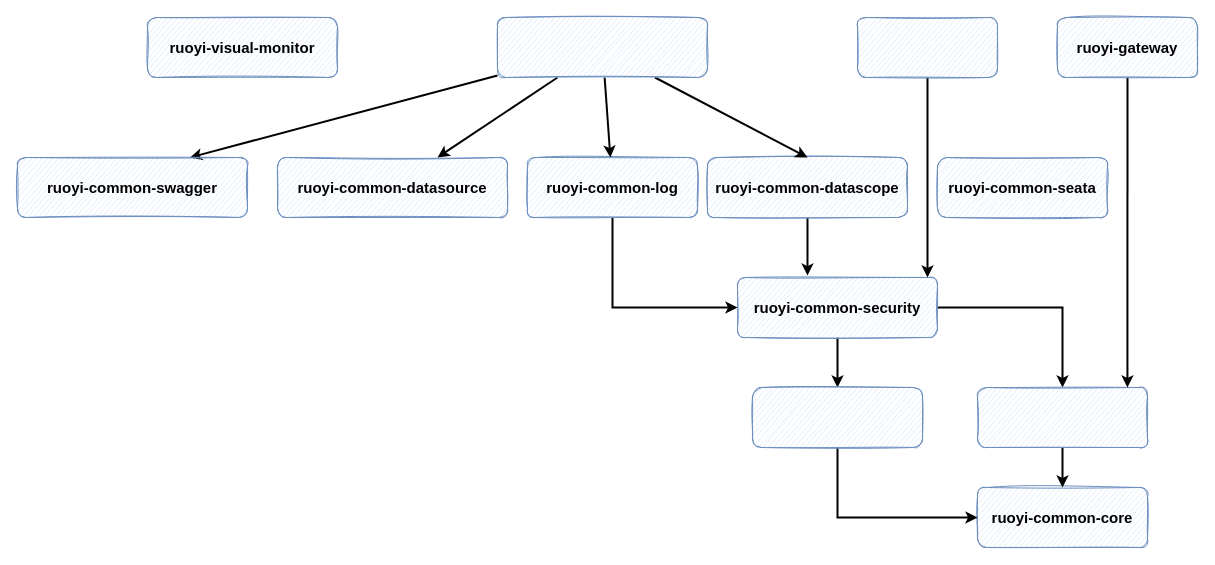
Image size: 1215x565. Some labels were removed from this diagram. Each missing label, with the centre of its shape:
"ruoyi-api-system" belongs at point (837, 417).
"ruoyi-auth" belongs at point (927, 47).
"ruoyi-common-redis" belongs at point (1062, 417).
"ruoyi-modules-system" belongs at point (602, 47).
